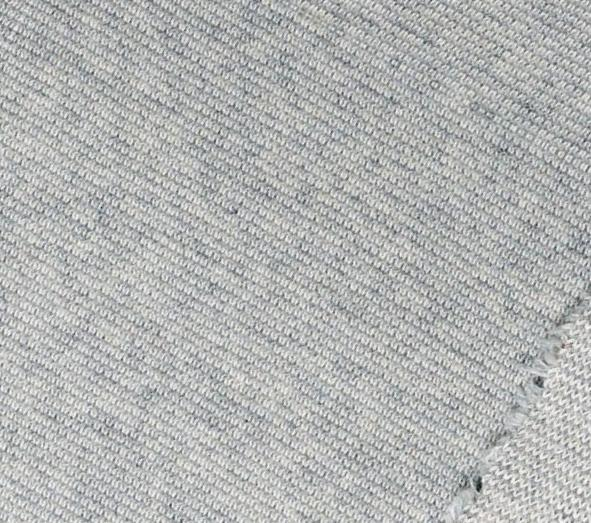slub: (436, 291, 591, 522)
